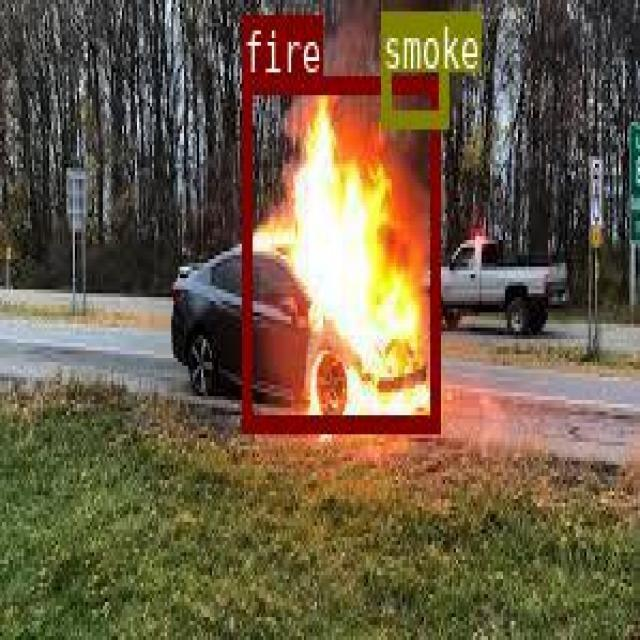fire: (241, 73, 438, 428)
smoke: (381, 10, 447, 124)
